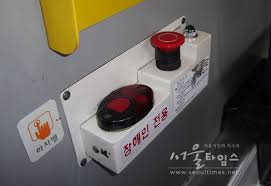bell: (96, 83, 155, 132)
